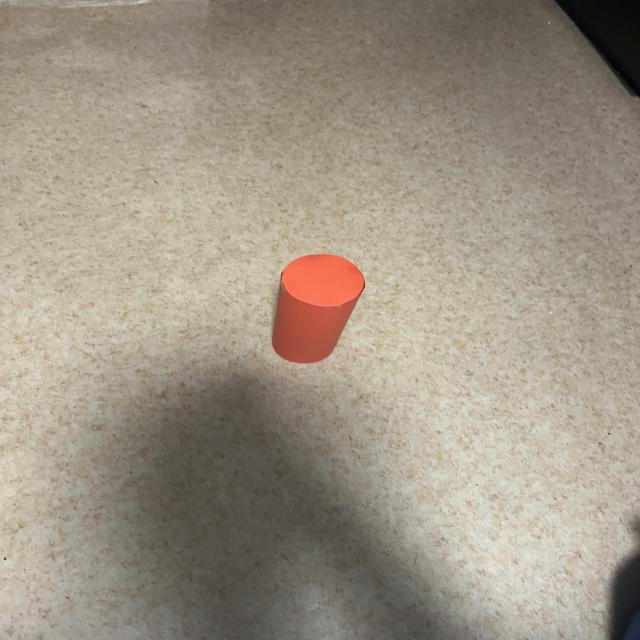przeszkoda: (272, 254, 364, 363)
